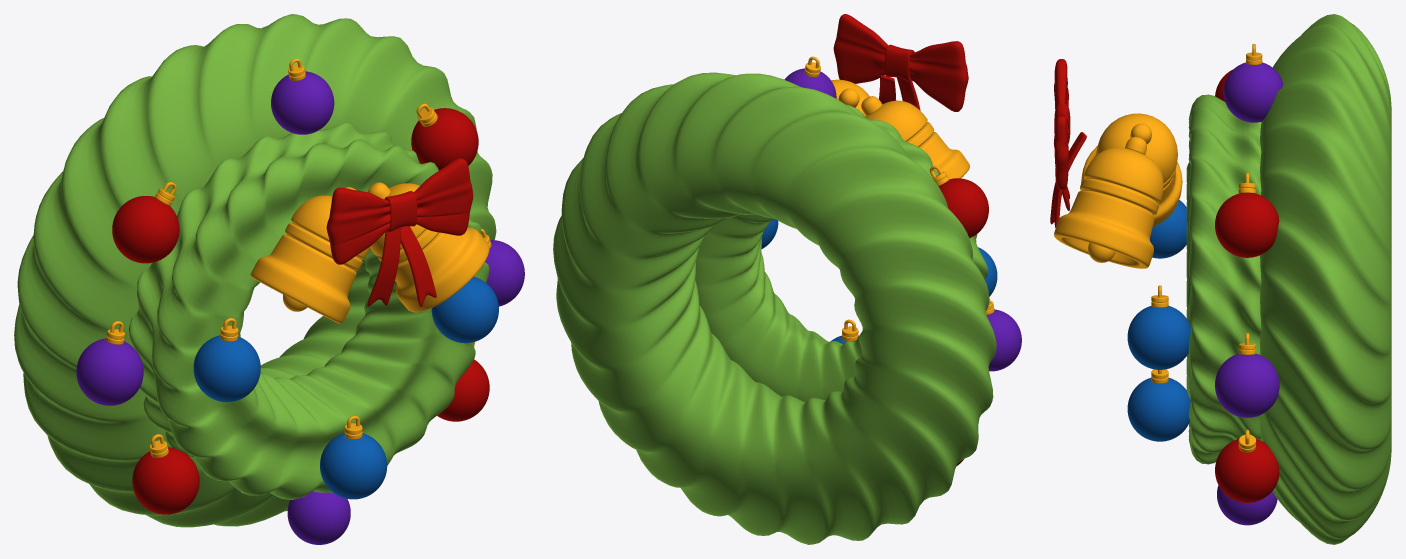
Rendered from Wreath.fbx.
3 views of the same model, side by side, from view 1: azimuth 30°, elevation 25°; view 2: azimuth 150°, elevation 25°; view 3: azimuth 270°, elevation 25° (orthographic). The views are drawn at different scales.
Visible parts, largest first — view 1: Torus, Torus.001, Cylinder.064, Plane, Cylinder.066, Sphere.043, Sphere.045, Sphere.040, Sphere.036, Sphere.042, Sphere.048, Sphere.039 (+7 smaller); view 2: Torus, Torus.001, Plane, Cylinder.064, Sphere.043, Sphere.045, Cube.040, Sphere.048; view 3: Torus, Torus.001, Cylinder.066, Cylinder.064, Sphere.044, Sphere.046, Sphere.039, Sphere.036, Sphere.041, Sphere.048, Plane, Sphere.040 (+2 smaller).
Boxes of the visible parts, left/top/right/bottom form: Torus: left=14, top=14, right=496, bottom=527; Torus.001: left=128, top=122, right=489, bottom=499; Cylinder.064: left=250, top=195, right=369, bottom=323; Plane: left=326, top=158, right=473, bottom=264; Cylinder.066: left=370, top=183, right=489, bottom=312; Sphere.043: left=112, top=196, right=179, bottom=263; Sphere.045: left=76, top=338, right=143, bottom=405; Sphere.040: left=193, top=335, right=260, bottom=402; Sphere.036: left=320, top=433, right=387, bottom=499; Sphere.042: left=132, top=447, right=199, bottom=514; Sphere.048: left=271, top=71, right=334, bottom=134; Sphere.039: left=431, top=277, right=498, bottom=343; Torus: left=553, top=72, right=996, bottom=544; Torus.001: left=695, top=104, right=988, bottom=402; Plane: left=833, top=14, right=968, bottom=111; Cylinder.064: left=865, top=100, right=969, bottom=178; Sphere.043: left=938, top=178, right=988, bottom=238; Sphere.045: left=986, top=309, right=1021, bottom=371; Cube.040: left=884, top=44, right=914, bottom=82; Sphere.048: left=784, top=68, right=836, bottom=98; Torus: left=1260, top=14, right=1391, bottom=544; Torus.001: left=1186, top=94, right=1261, bottom=464; Cylinder.066: left=1054, top=147, right=1163, bottom=268; Cylinder.064: left=1081, top=113, right=1182, bottom=226; Sphere.044: left=1215, top=192, right=1279, bottom=257; Sphere.046: left=1215, top=353, right=1279, bottom=417; Sphere.039: left=1127, top=306, right=1190, bottom=369; Sphere.036: left=1127, top=378, right=1190, bottom=441; Sphere.041: left=1215, top=439, right=1279, bottom=502; Sphere.048: left=1223, top=62, right=1282, bottom=122; Plane: left=1054, top=59, right=1069, bottom=190; Sphere.040: left=1150, top=200, right=1186, bottom=258.
Bounding box in the file's own units: 288 × 288 × 187.
